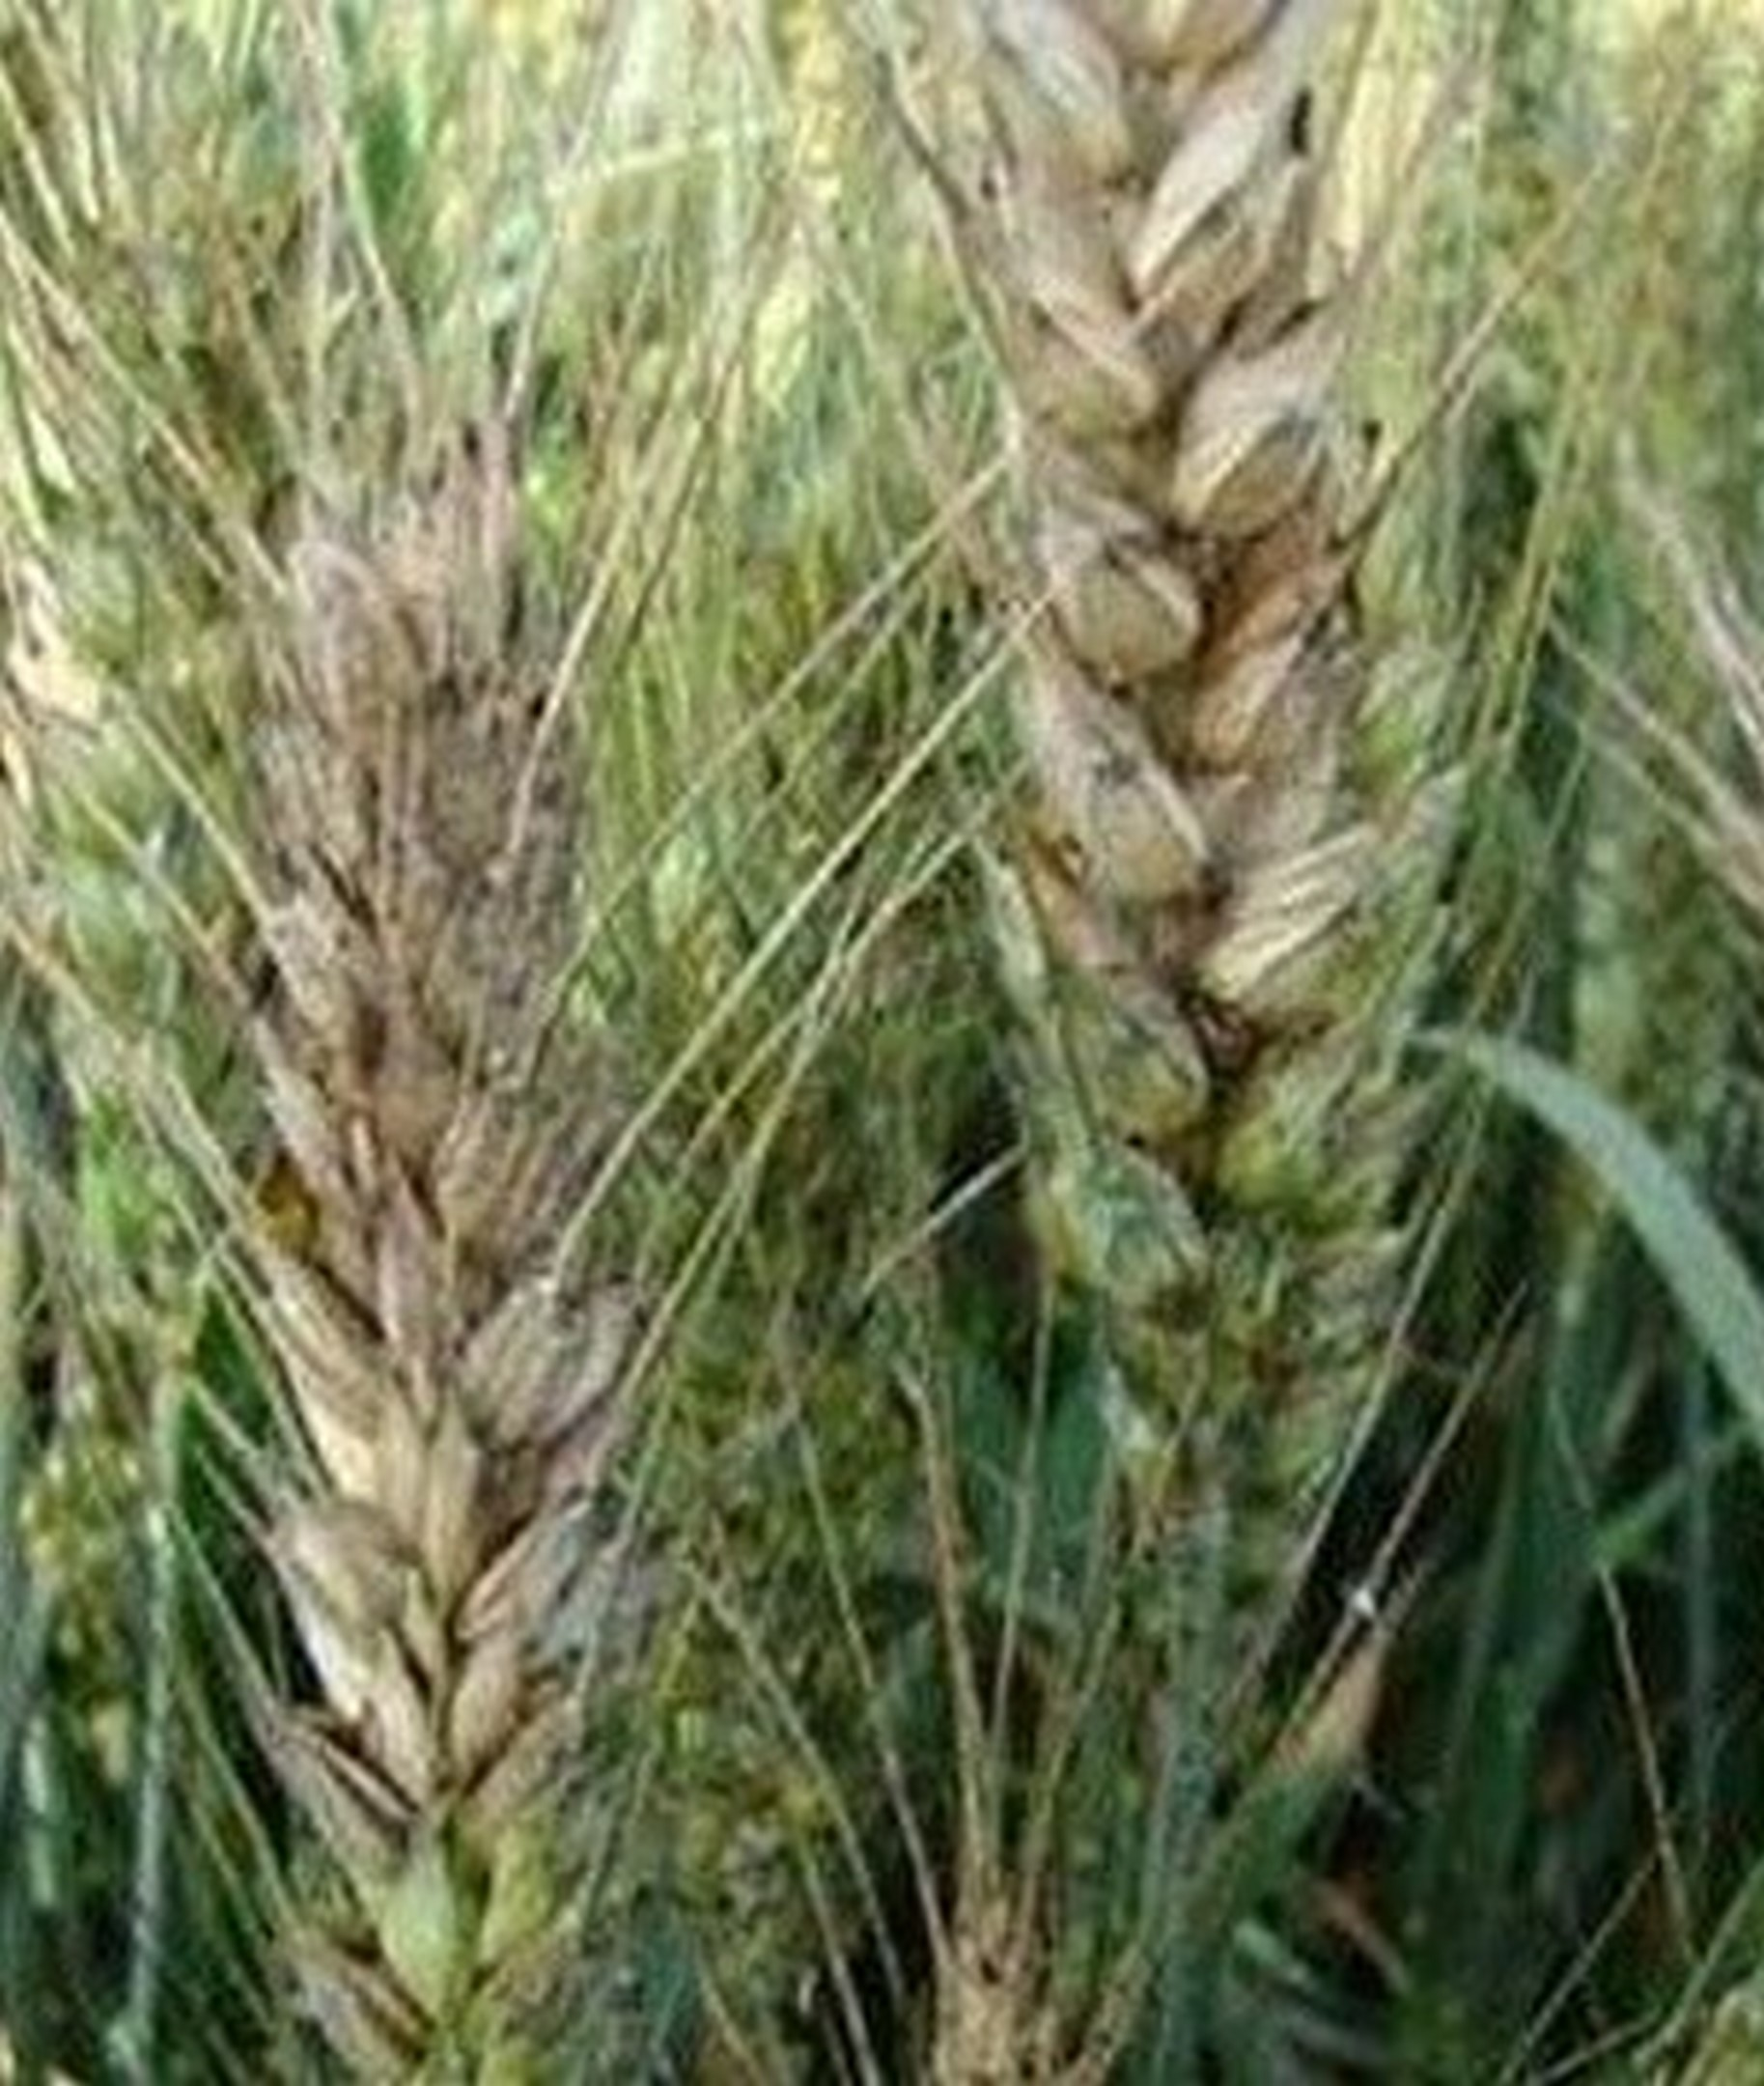Wheat scab: (910, 4, 1498, 1647), (208, 466, 656, 2002)
